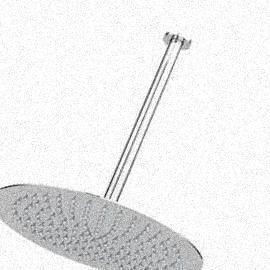Ducha: (0, 21, 269, 269)
